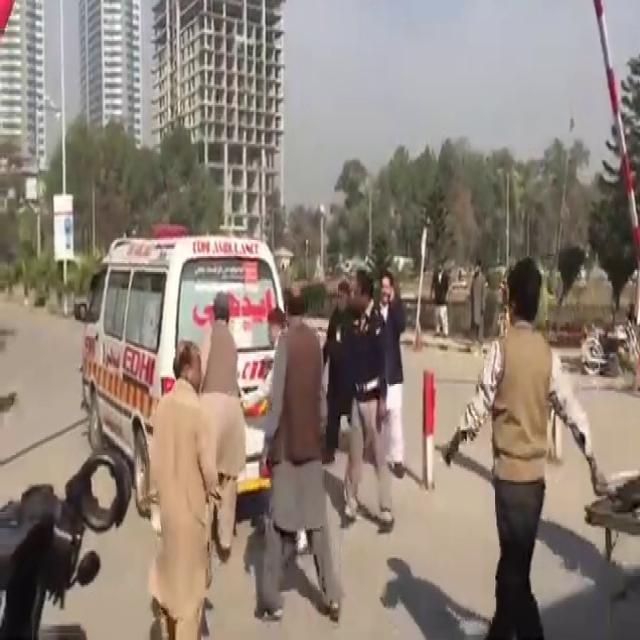ambulance: (72, 165, 315, 522)
